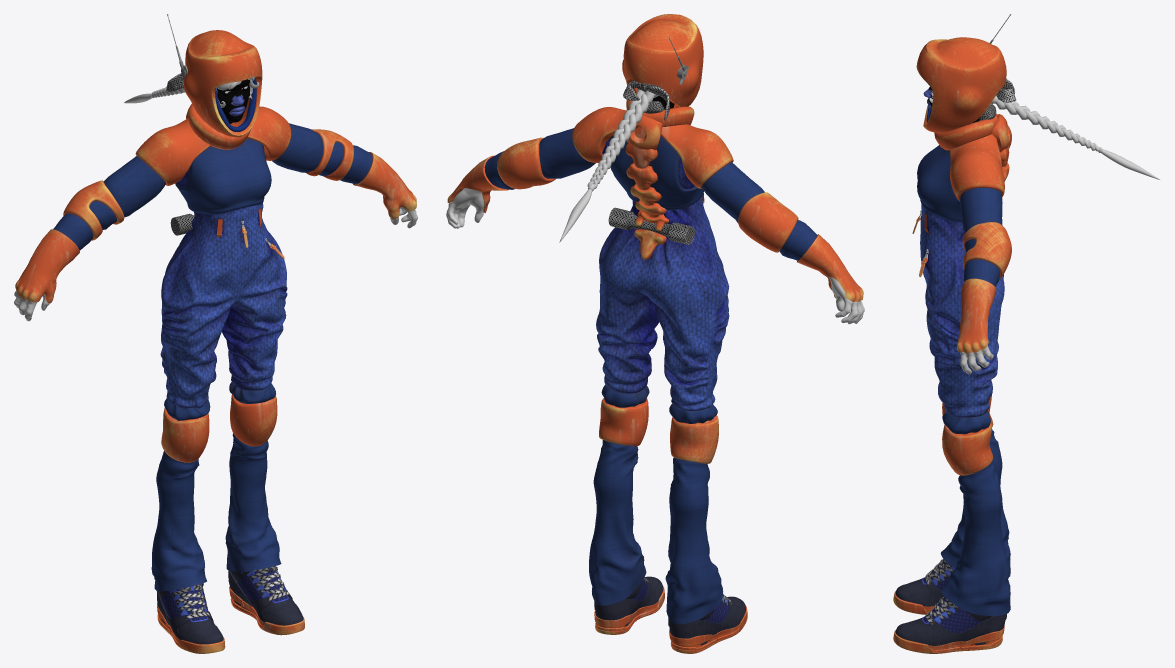
The model's file is gravrushfinal.fbx.
3 views of the same model, side by side, from view 1: azimuth 30°, elevation 25°; view 2: azimuth 150°, elevation 25°; view 3: azimuth 270°, elevation 25° (orthographic). The views are drawn at different scales.
Parts seen in each view (by area): view 1: Retopo_top, Retopo_gravrushclothing.002, Retopo_gravrushclothing.003, Nike_Rev_Sky1_Nike_Rev_Sky1_0, helmet, BézierCurve.003, largerhands.001, BézierCurve.002, BézierCurve.001, Nike_Rev_Sky1_Nike_Rev_Sky1_0.001, Retopo_bettertrousers.001, head.001 (+1 smaller); view 2: Retopo_top, Retopo_gravrushclothing.002, helmet, BézierCurve.003, Retopo_gravrushclothing.003, Nike_Rev_Sky1_Nike_Rev_Sky1_0, BézierCurve.001, BézierCurve.002, largerhands.001, hairponytail, bodyresized.001, spine.001 (+3 smaller); view 3: Retopo_top, Retopo_gravrushclothing.002, helmet, Nike_Rev_Sky1_Nike_Rev_Sky1_0, BézierCurve.003, Retopo_gravrushclothing.003, largerhands.001, BézierCurve.002, BézierCurve.001, hairponytail, Retopo_bettertrousers.001, Nike_Rev_Sky1_Nike_Rev_Sky1_0.001 (+2 smaller).
Boxes of the visible parts, left/top/right/bottom form: Retopo_top: left=160, top=138, right=287, bottom=408; Retopo_gravrushclothing.002: left=151, top=433, right=281, bottom=591; Retopo_gravrushclothing.003: left=53, top=123, right=372, bottom=250; Nike_Rev_Sky1_Nike_Rev_Sky1_0: left=157, top=566, right=304, bottom=653; helmet: left=183, top=30, right=262, bottom=137; BézierCurve.003: left=135, top=104, right=291, bottom=185; largerhands.001: left=15, top=152, right=416, bottom=303; BézierCurve.002: left=161, top=394, right=277, bottom=462; BézierCurve.001: left=63, top=129, right=353, bottom=240; Nike_Rev_Sky1_Nike_Rev_Sky1_0.001: left=173, top=566, right=289, bottom=619; Retopo_bettertrousers.001: left=164, top=381, right=275, bottom=420; head.001: left=217, top=79, right=249, bottom=123; Retopo_top: left=596, top=135, right=729, bottom=410; Retopo_gravrushclothing.002: left=589, top=440, right=723, bottom=624; helmet: left=622, top=14, right=703, bottom=107; BézierCurve.003: left=572, top=100, right=733, bottom=188; Retopo_gravrushclothing.003: left=484, top=128, right=817, bottom=260; Nike_Rev_Sky1_Nike_Rev_Sky1_0: left=594, top=576, right=747, bottom=653; BézierCurve.001: left=497, top=137, right=798, bottom=252; BézierCurve.002: left=599, top=398, right=718, bottom=463; largerhands.001: left=447, top=155, right=863, bottom=301; hairponytail: left=559, top=89, right=658, bottom=242; bodyresized.001: left=446, top=188, right=864, bottom=324; spine.001: left=626, top=143, right=666, bottom=217; Retopo_top: left=917, top=145, right=1004, bottom=417; Retopo_gravrushclothing.002: left=940, top=429, right=1010, bottom=616; helmet: left=916, top=37, right=1006, bottom=132; Nike_Rev_Sky1_Nike_Rev_Sky1_0: left=893, top=559, right=1006, bottom=653; BézierCurve.003: left=934, top=104, right=1004, bottom=200; Retopo_gravrushclothing.003: left=960, top=187, right=1002, bottom=286; largerhands.001: left=957, top=278, right=996, bottom=353; BézierCurve.002: left=942, top=395, right=993, bottom=475; BézierCurve.001: left=962, top=126, right=1011, bottom=278; hairponytail: left=991, top=95, right=1159, bottom=179; Retopo_bettertrousers.001: left=942, top=411, right=990, bottom=434; Nike_Rev_Sky1_Nike_Rev_Sky1_0.001: left=925, top=558, right=957, bottom=624.
Bounding box in the file's own units: 119 × 171 × 69.53.
